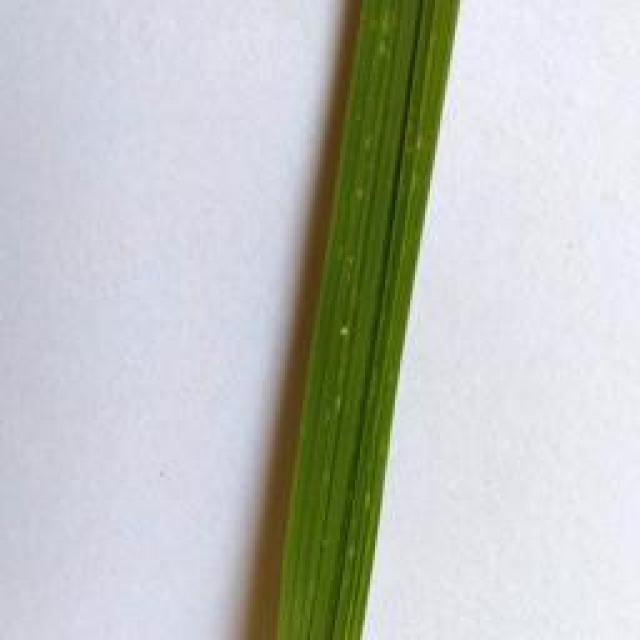Bacterial_Blight: (334, 318, 354, 341), (343, 539, 361, 561)
